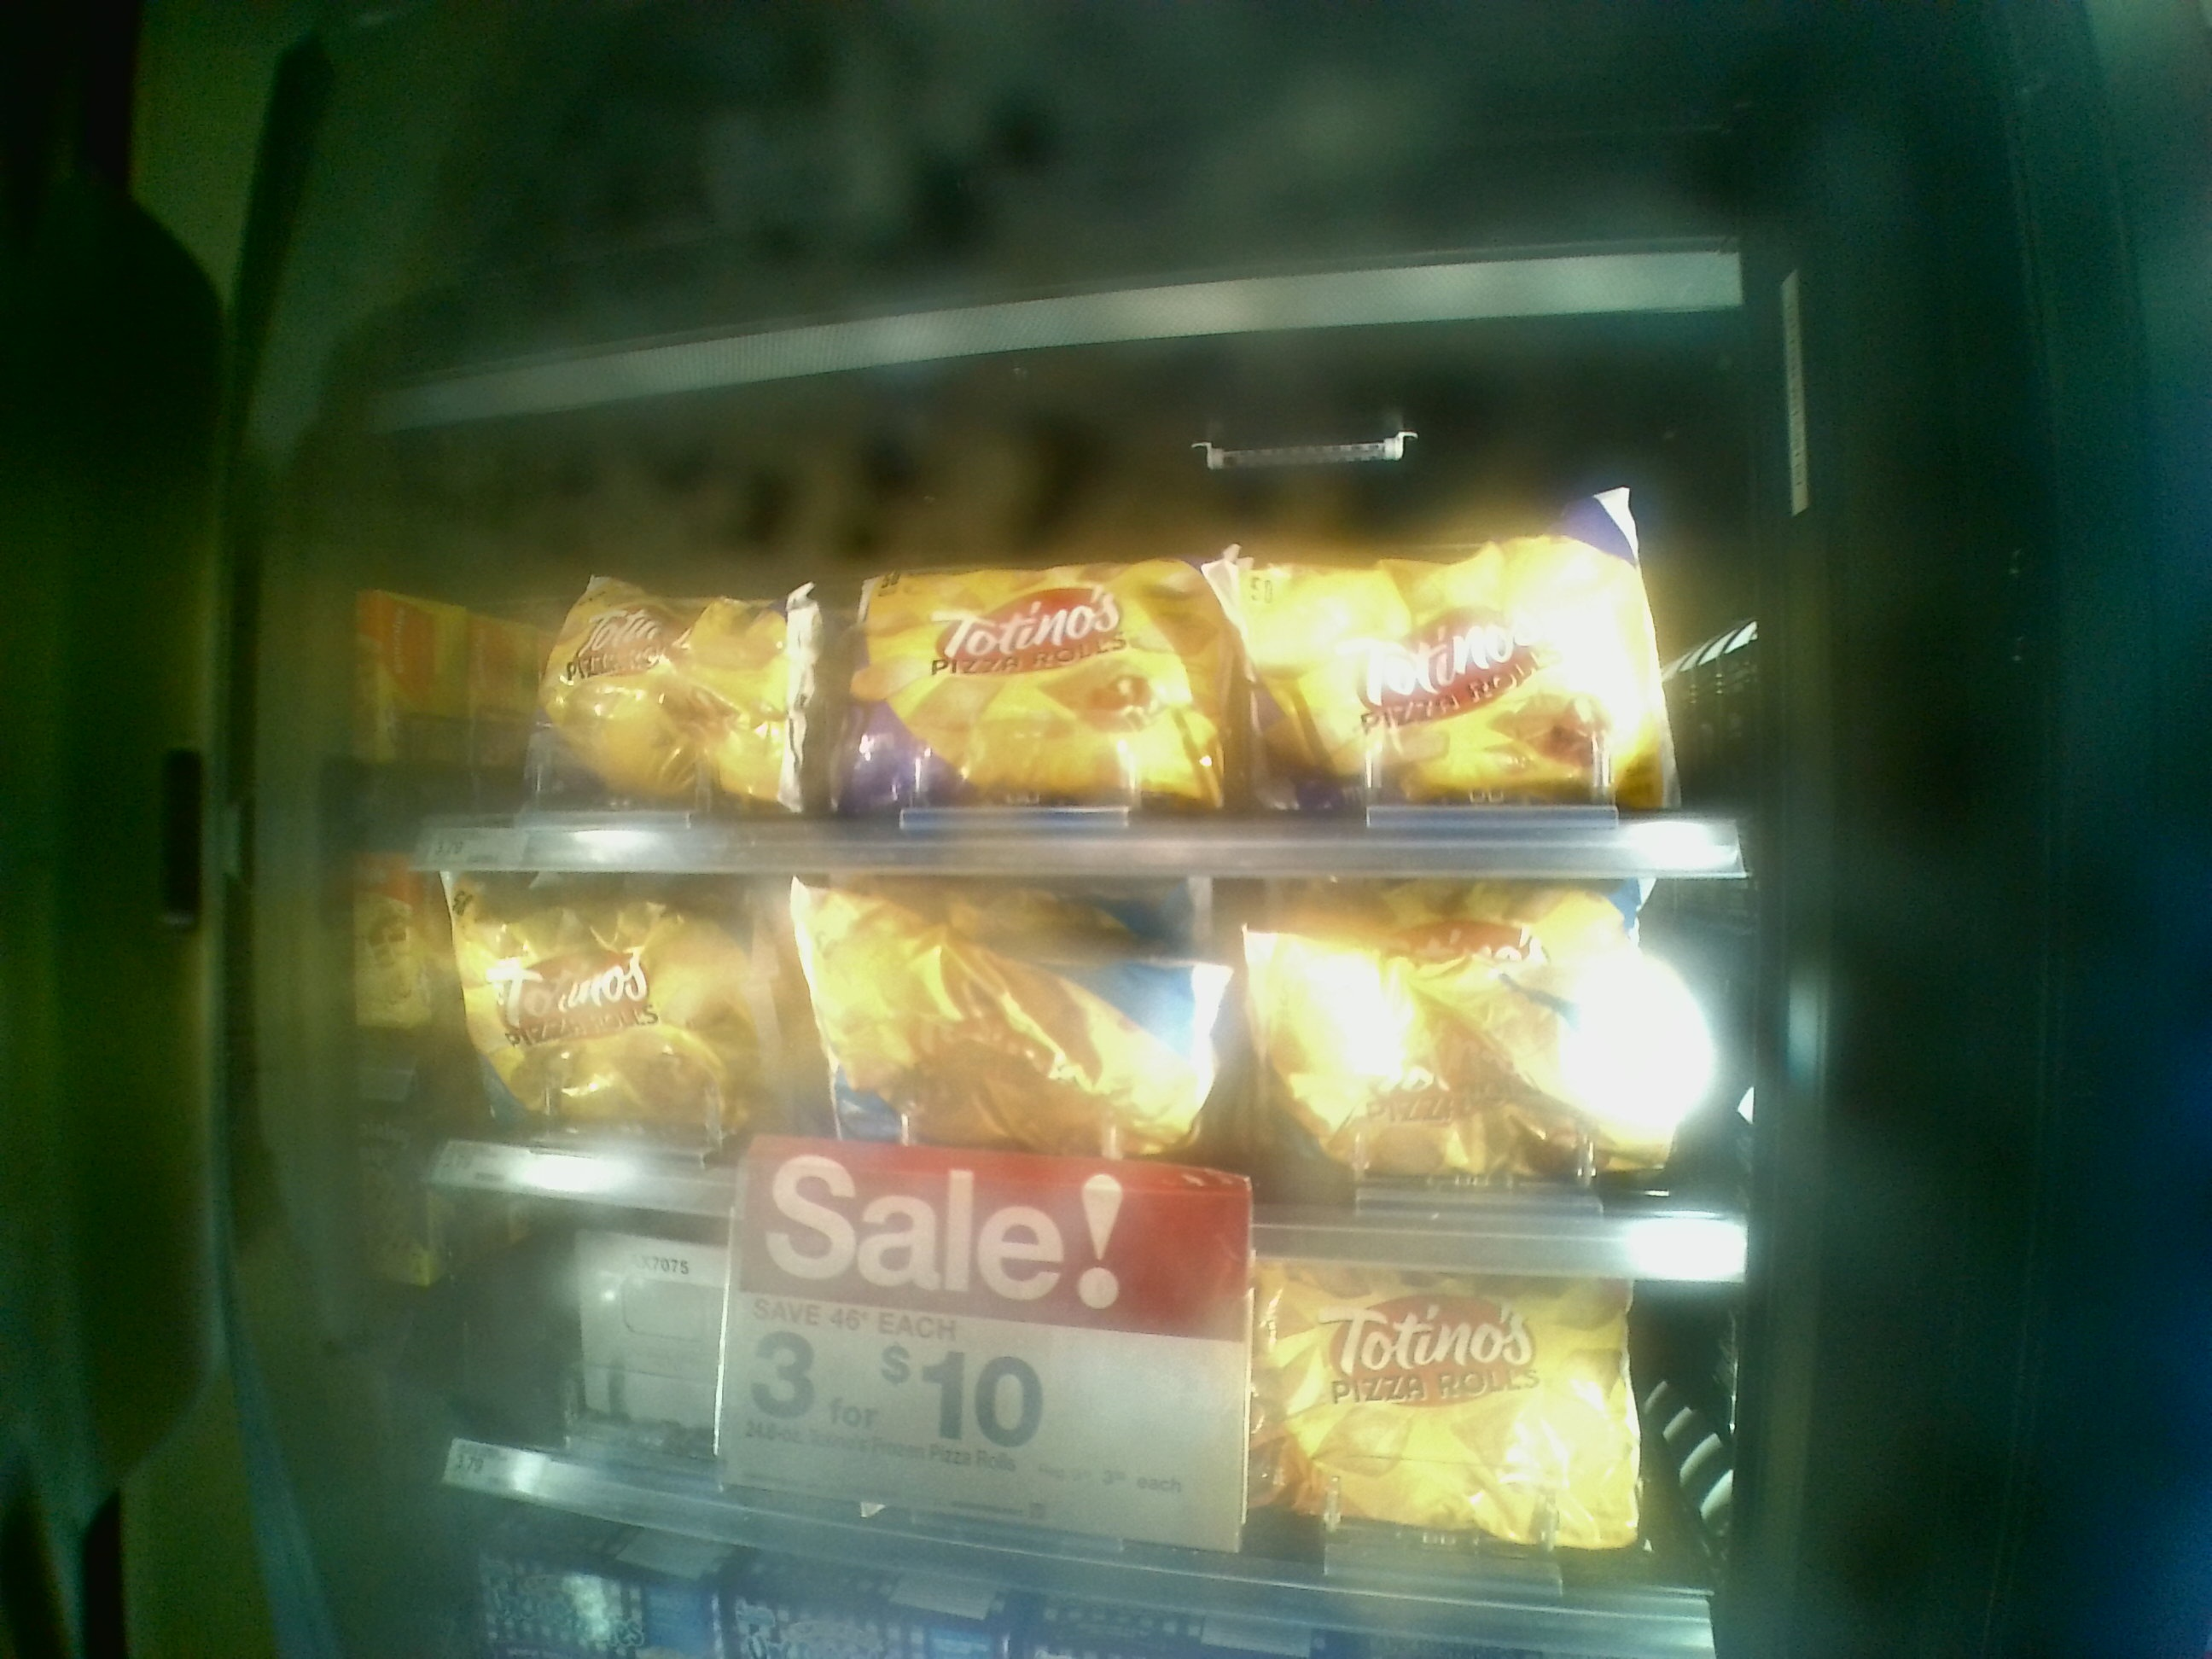shelf: (413, 1176, 1742, 1659), (394, 861, 1757, 1277), (364, 525, 1752, 884)
